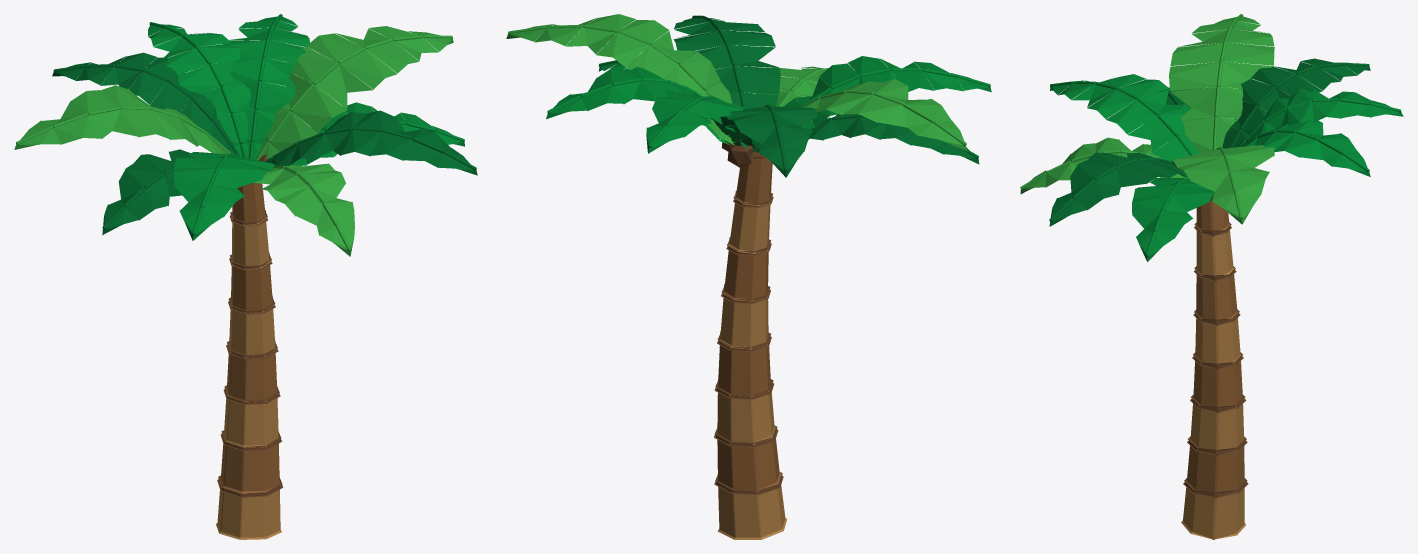
Rendered from PalmTree.glb.
3 renders of one model, left to right at view 1: azimuth 30°, elevation 25°; view 2: azimuth 150°, elevation 25°; view 3: azimuth 270°, elevation 25°, orthographic. The views are drawn at different scales.
Visible parts, largest first — view 1: PalmTree_FrondLeftHigh, PalmTree_FrondRightHigh, PalmTree_FrondRearLeft, PalmTree_FrondBackTop, PalmTree_FrondFrontLeft, PalmTree_FrondRearRight, PalmTree_FrondFrontRight, PalmTree_FrondFrontCenter, PalmTree_FrondRightLower, PalmTree_TrunkSegment01, PalmTree_TrunkSegment02, PalmTree_TrunkSegment03 (+6 smaller); view 2: PalmTree_FrondLeftHigh, PalmTree_FrondFrontLeft, PalmTree_FrondRightHigh, PalmTree_FrondFrontRight, PalmTree_FrondRearRight, PalmTree_FrondRearLeft, PalmTree_FrondBackTop, PalmTree_TrunkSegment01, PalmTree_TrunkSegment02, PalmTree_FrondRightLower, PalmTree_TrunkSegment03, PalmTree_TrunkSegment04 (+5 smaller); view 3: PalmTree_FrondRightHigh, PalmTree_FrondFrontRight, PalmTree_FrondLeftHigh, PalmTree_FrondRearRight, PalmTree_FrondFrontLeft, PalmTree_FrondLeftLower, PalmTree_FrondBackTop, PalmTree_FrondRearLeft, PalmTree_TrunkSegment01, PalmTree_TrunkSegment02, PalmTree_TrunkSegment03, PalmTree_FrondFrontCenter (+5 smaller).
Part boxes in pixels (x1=…): PalmTree_FrondLeftHigh: x1=256, y1=26, x2=453, y2=160; PalmTree_FrondRightHigh: x1=14, y1=85, x2=230, y2=154; PalmTree_FrondRearLeft: x1=218, y1=14, x2=310, y2=159; PalmTree_FrondBackTop: x1=148, y1=22, x2=251, y2=157; PalmTree_FrondFrontLeft: x1=265, y1=110, x2=477, y2=175; PalmTree_FrondRearRight: x1=52, y1=52, x2=239, y2=155; PalmTree_FrondFrontRight: x1=174, y1=152, x2=275, y2=240; PalmTree_FrondFrontCenter: x1=254, y1=163, x2=354, y2=256; PalmTree_FrondRightLower: x1=102, y1=149, x2=193, y2=234; PalmTree_TrunkSegment01: x1=216, y1=488, x2=281, y2=539; PalmTree_TrunkSegment02: x1=220, y1=443, x2=279, y2=493; PalmTree_TrunkSegment03: x1=224, y1=396, x2=279, y2=447; PalmTree_FrondLeftHigh: x1=506, y1=14, x2=734, y2=144; PalmTree_FrondFrontLeft: x1=673, y1=15, x2=780, y2=108; PalmTree_FrondRightHigh: x1=752, y1=79, x2=967, y2=151; PalmTree_FrondFrontRight: x1=783, y1=56, x2=991, y2=129; PalmTree_FrondRearRight: x1=720, y1=104, x2=817, y2=177; PalmTree_FrondRearLeft: x1=546, y1=66, x2=748, y2=149; PalmTree_FrondBackTop: x1=646, y1=91, x2=761, y2=153; PalmTree_TrunkSegment01: x1=718, y1=472, x2=787, y2=539; PalmTree_TrunkSegment02: x1=717, y1=439, x2=780, y2=492; PalmTree_FrondRightLower: x1=760, y1=114, x2=979, y2=164; PalmTree_TrunkSegment03: x1=716, y1=389, x2=775, y2=444; PalmTree_TrunkSegment04: x1=716, y1=341, x2=770, y2=396; PalmTree_FrondRightHigh: x1=1169, y1=14, x2=1274, y2=153; PalmTree_FrondFrontRight: x1=1050, y1=74, x2=1199, y2=161; PalmTree_FrondLeftHigh: x1=1170, y1=145, x2=1274, y2=224; PalmTree_FrondRearRight: x1=1222, y1=58, x2=1370, y2=148; PalmTree_FrondFrontLeft: x1=1049, y1=152, x2=1187, y2=226; PalmTree_FrondLeftLower: x1=1132, y1=177, x2=1214, y2=261; PalmTree_FrondBackTop: x1=1237, y1=88, x2=1403, y2=147; PalmTree_FrondRearLeft: x1=1242, y1=119, x2=1370, y2=176; PalmTree_TrunkSegment01: x1=1181, y1=487, x2=1245, y2=539; PalmTree_TrunkSegment02: x1=1186, y1=446, x2=1244, y2=492; PalmTree_TrunkSegment03: x1=1190, y1=399, x2=1244, y2=449; PalmTree_FrondFrontCenter: x1=1020, y1=137, x2=1185, y2=194.
Bounding box in the file's own units: 4.32 × 4.23 × 3.42.
